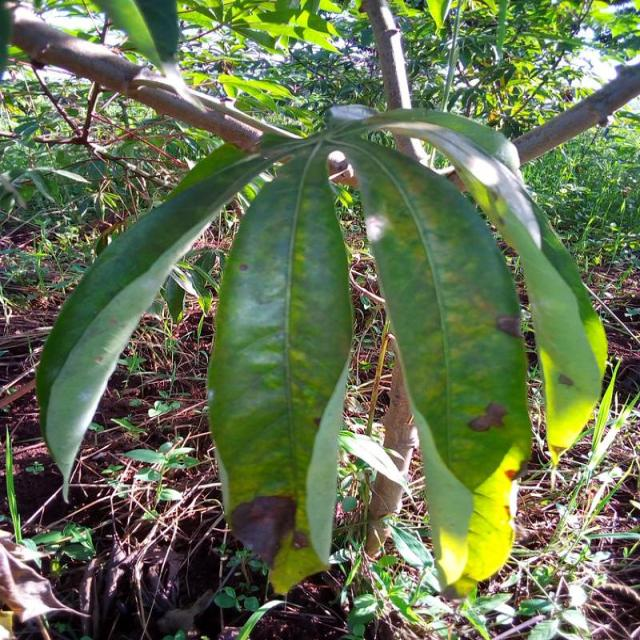cassava leaf: (34, 100, 606, 600), (327, 123, 533, 597), (34, 138, 272, 504), (205, 136, 354, 595)
